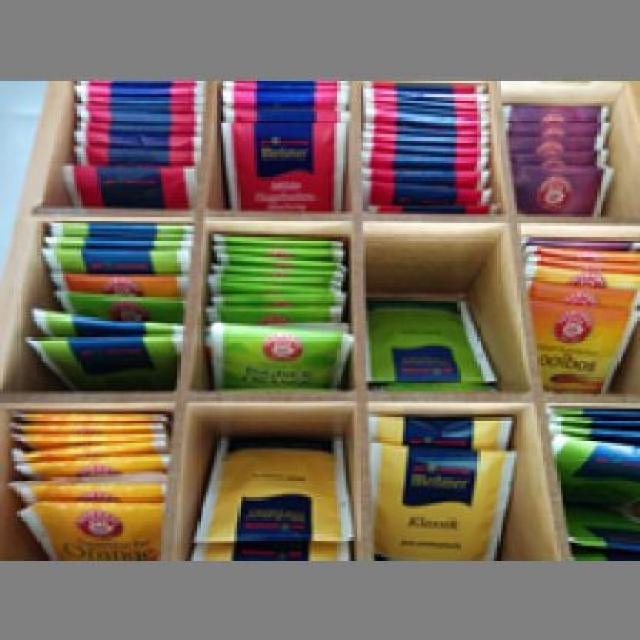Tea: (20, 220, 183, 380), (368, 412, 526, 558), (3, 411, 163, 546), (206, 234, 343, 386), (192, 428, 352, 552), (517, 234, 637, 397), (357, 76, 494, 210), (62, 77, 198, 200), (218, 76, 342, 210), (545, 400, 638, 549), (500, 96, 609, 210)
